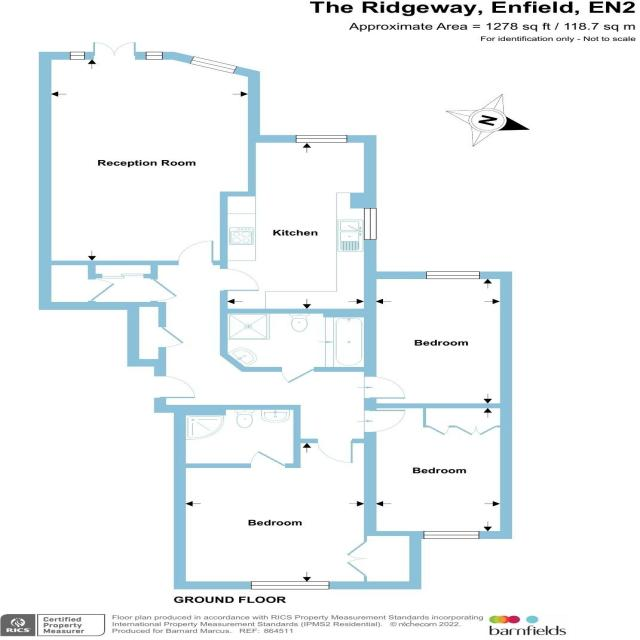DOOR: (363, 409, 406, 433), (363, 375, 406, 399), (154, 375, 197, 399), (316, 438, 354, 464), (219, 268, 260, 292), (176, 240, 214, 265), (249, 450, 286, 468), (281, 367, 316, 384)
DOUBLE DOOR: (92, 39, 139, 59)
ROOM: (38, 42, 261, 265), (174, 439, 421, 590), (220, 135, 377, 318), (364, 271, 512, 409), (364, 403, 513, 539)
WINDOW: (188, 55, 239, 74), (250, 581, 331, 590), (295, 134, 348, 144), (424, 271, 481, 280), (362, 207, 377, 240), (423, 531, 480, 539), (144, 51, 164, 61), (68, 51, 87, 61)
